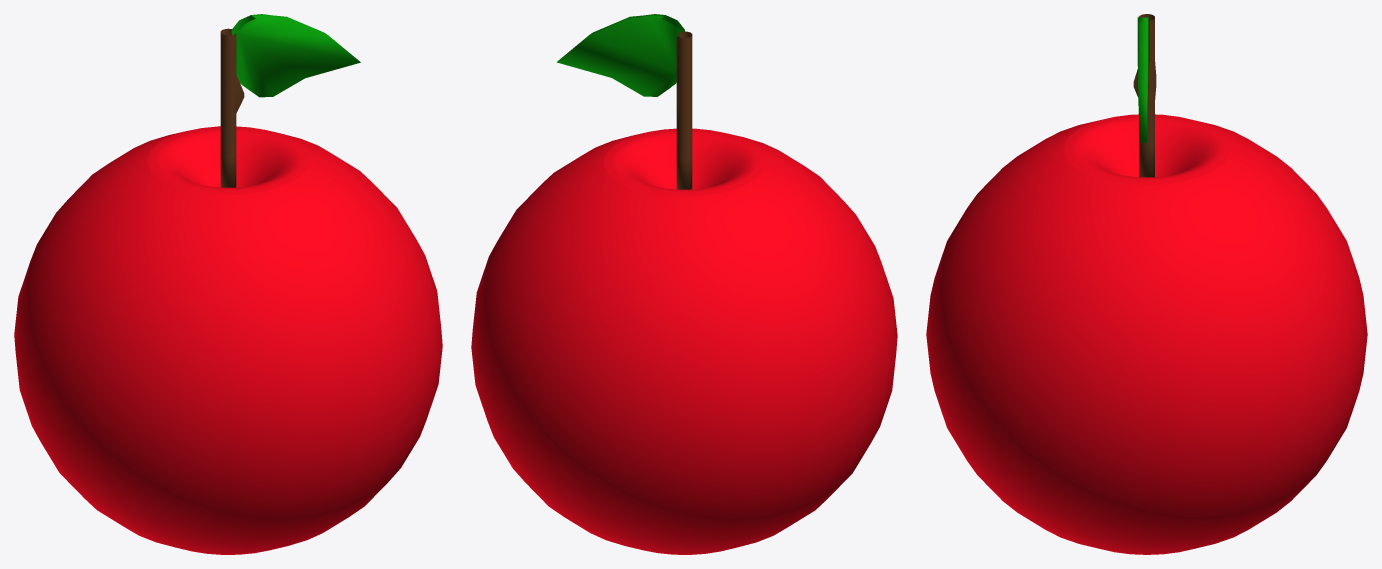
The model's file is apple.fbx.
The picture shows the model from 3 angles, left to right: view 1: azimuth 30°, elevation 25°; view 2: azimuth 150°, elevation 25°; view 3: azimuth 270°, elevation 25°; orthographic projection. The views are drawn at different scales.
Visible parts, largest first — view 1: Sphere, Circle.001, Circle; view 2: Sphere, Circle.001, Circle; view 3: Sphere, Circle, Circle.001.
Part boxes in pixels (<box>): Sphere: <box>14,126,442,554</box>; Circle.001: <box>231,14,360,97</box>; Circle: <box>220,28,244,187</box>; Sphere: <box>471,128,897,554</box>; Circle.001: <box>556,14,684,96</box>; Circle: <box>676,31,692,189</box>; Sphere: <box>926,114,1367,554</box>; Circle: <box>1133,14,1156,177</box>; Circle.001: <box>1137,16,1148,142</box>.
Bounding box in the file's own units: 200 × 264 × 200.
